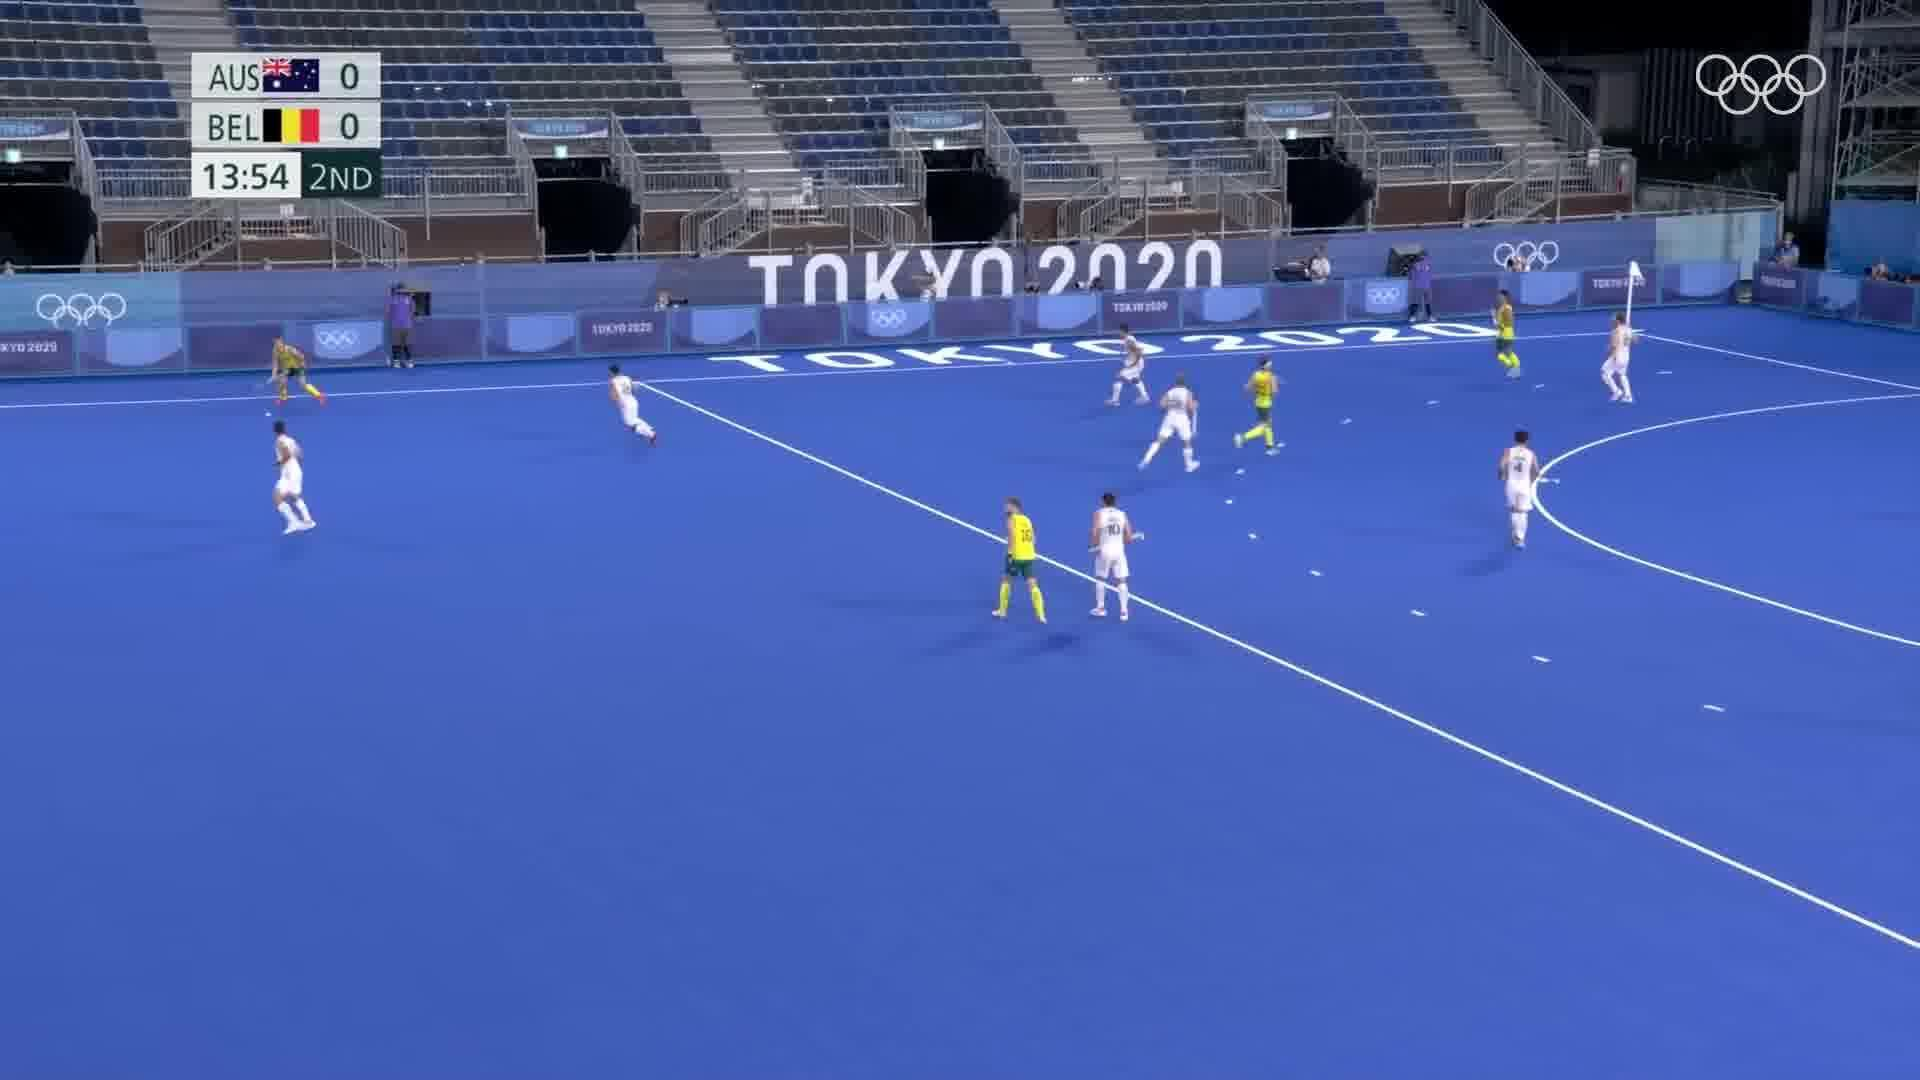ball: (260, 406, 276, 419)
